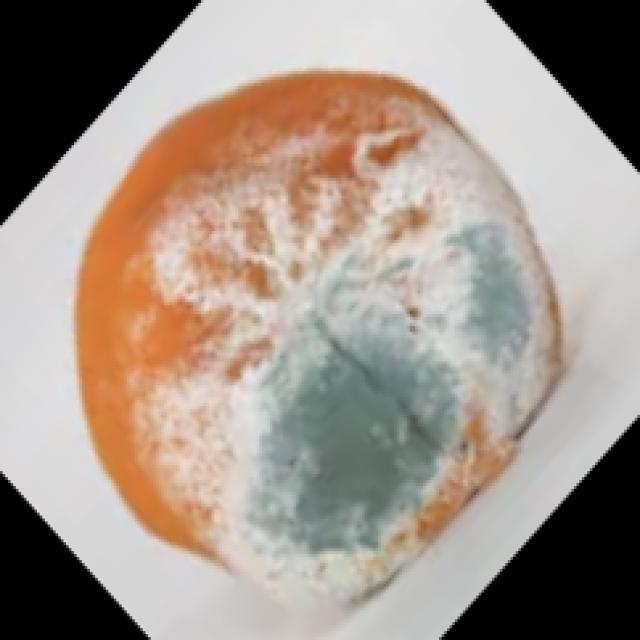sangat-busuk: (77, 71, 560, 605)
